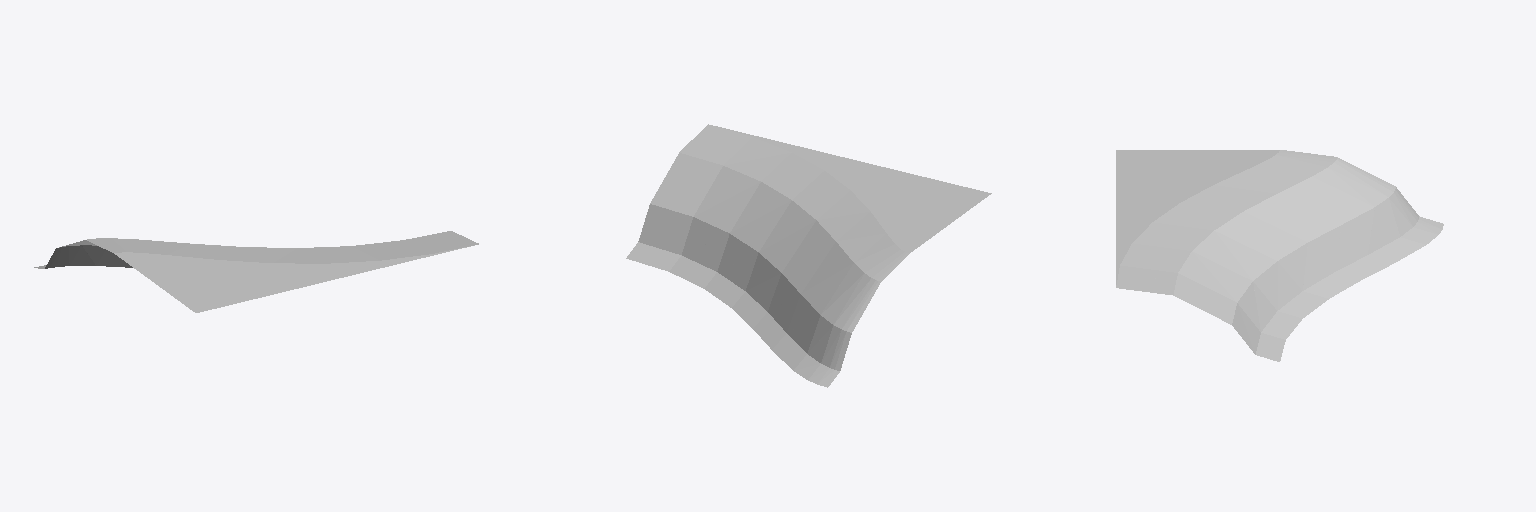
File: Track_Normal_Esse_2x2.obj
3 views of the same model, side by side, from view 1: azimuth 30°, elevation 25°; view 2: azimuth 150°, elevation 25°; view 3: azimuth 270°, elevation 25° (orthographic).
Visible parts, largest first — view 1: object1; view 2: object1; view 3: object1.
Part boxes in pixels (x1,y1,x2,y2): object1: (34,231,478,312); object1: (626,124,991,387); object1: (1116,150,1443,361).
Bounding box in the file's own units: 2 × 0.5 × 2.